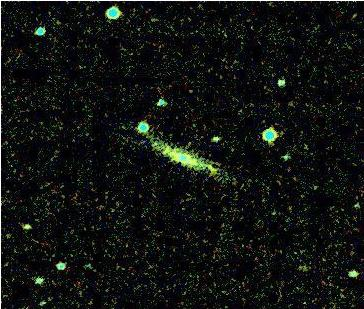star: (194, 150, 224, 180)
